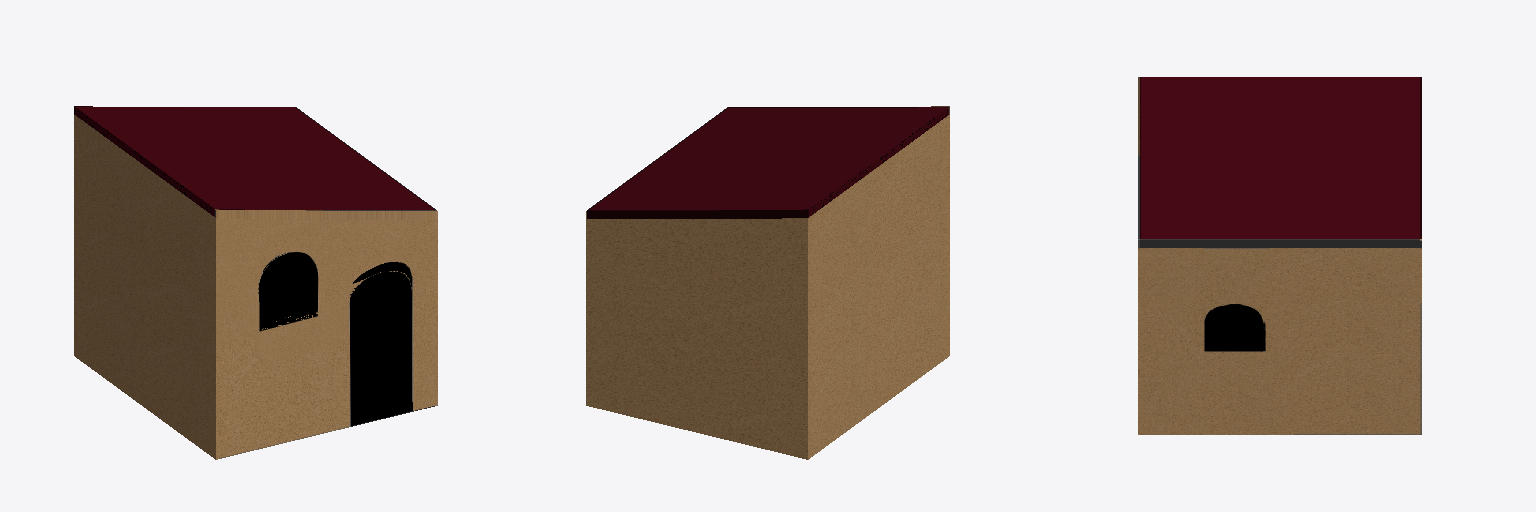
3 renders of one model, left to right at view 1: azimuth 30°, elevation 25°; view 2: azimuth 150°, elevation 25°; view 3: azimuth 270°, elevation 25°, orthographic.
Parts seen in each view (by area): view 1: pCube1; view 2: pCube1; view 3: pCube1.
Boxes of the visible parts, <box> form: pCube1: <box>74,106,437,459</box>; pCube1: <box>586,106,949,459</box>; pCube1: <box>1138,77,1421,434</box>.
Bounding box in the file's own units: 12.03 × 12.96 × 13.3.
Materials: 2 (1 with a texture image).